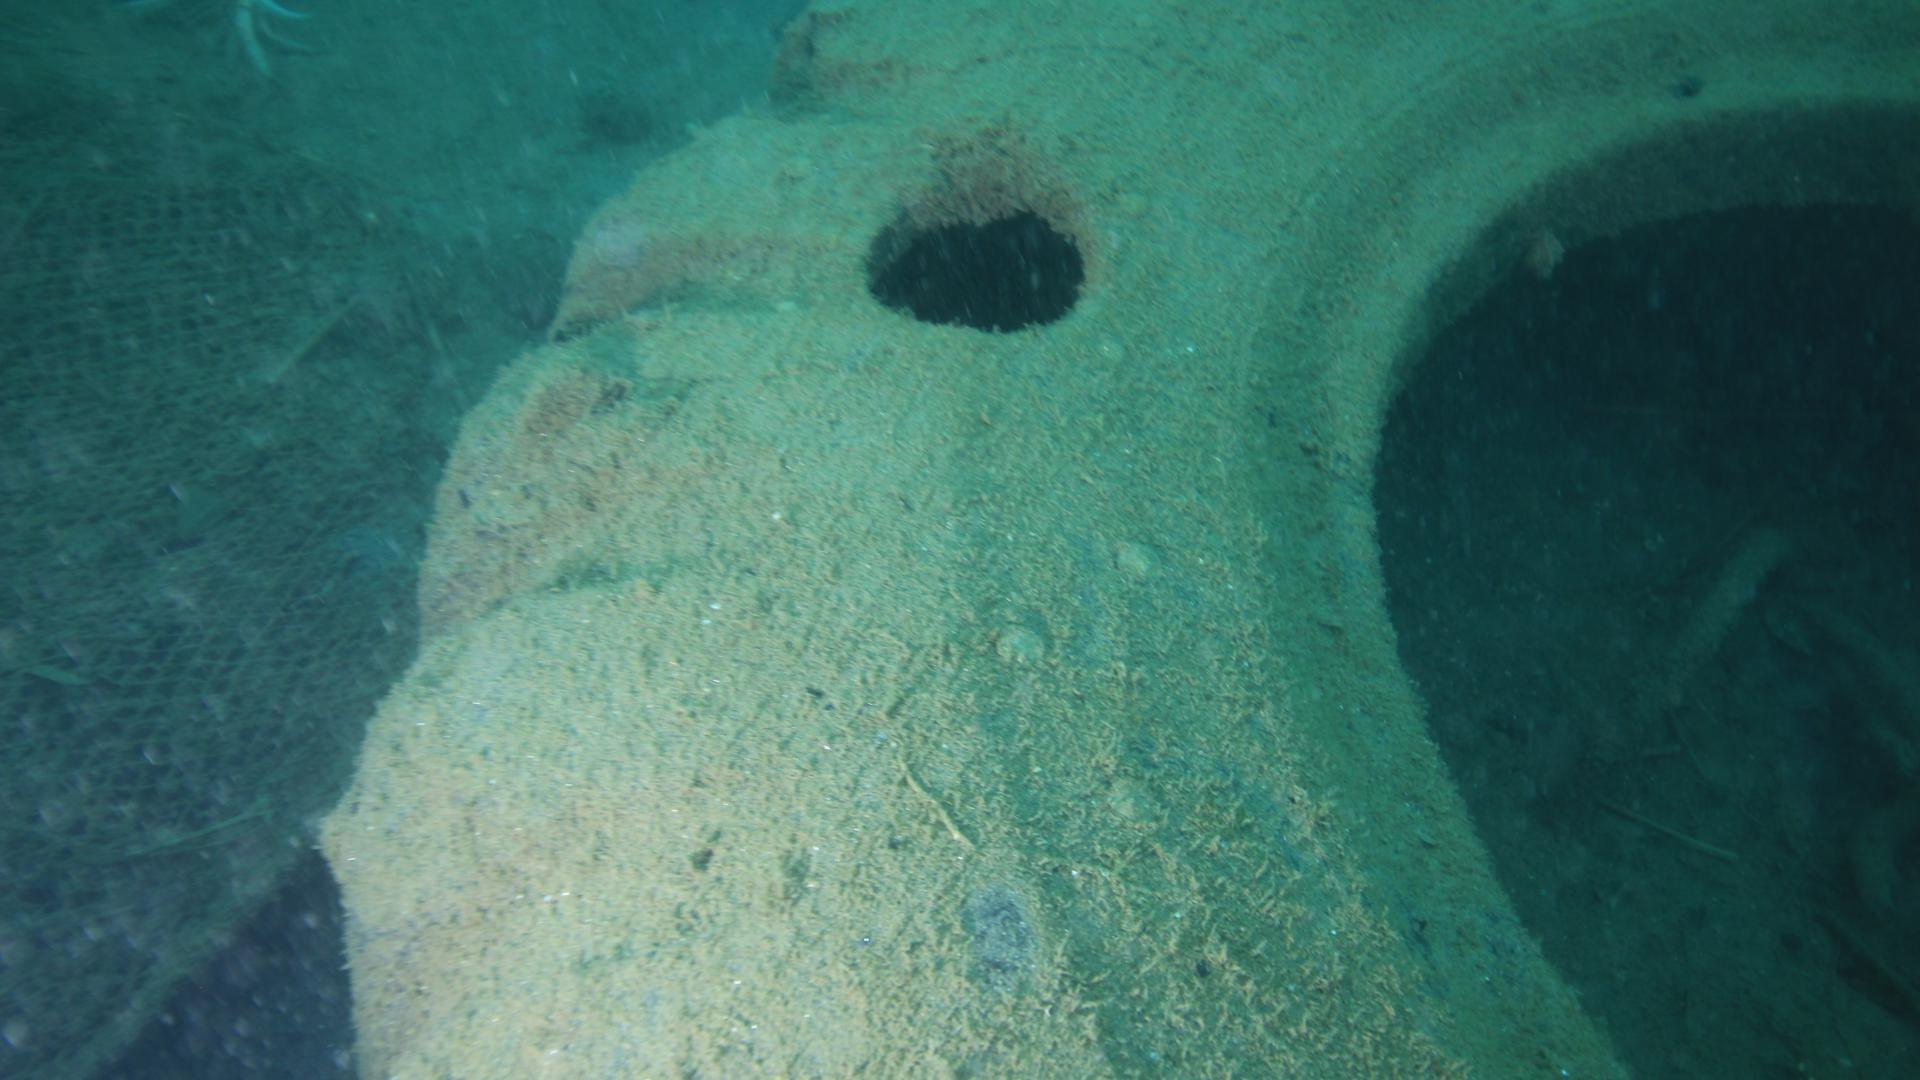fish net: (0, 42, 436, 1072)
tire: (335, 0, 1920, 1080)
